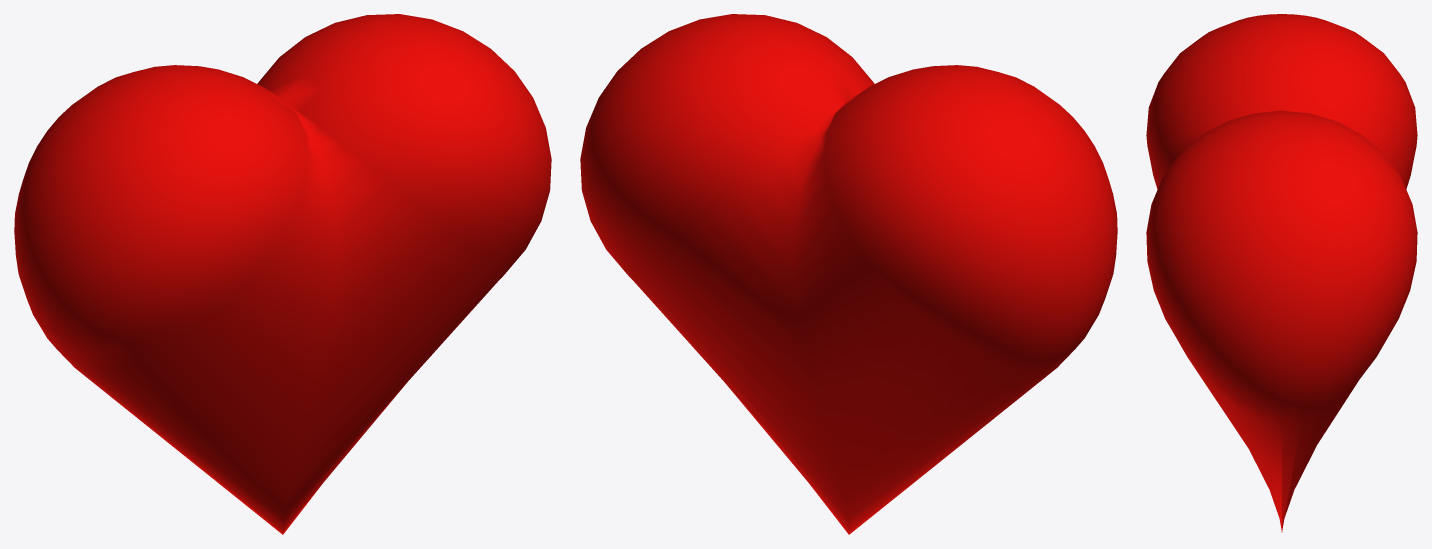
Rendered from heart.glb.
3 views of the same model, side by side, from view 1: azimuth 30°, elevation 25°; view 2: azimuth 150°, elevation 25°; view 3: azimuth 270°, elevation 25° (orthographic). The views are drawn at different scales.
Parts seen in each view (by area): view 1: Sphere.001; view 2: Sphere.001; view 3: Sphere.001.
Part boxes in pixels (x1,y1,x2,y2): Sphere.001: (14, 14, 551, 534); Sphere.001: (580, 14, 1117, 534); Sphere.001: (1146, 14, 1417, 532).
Bounding box in the file's own units: 3.41 × 3.12 × 1.68.
